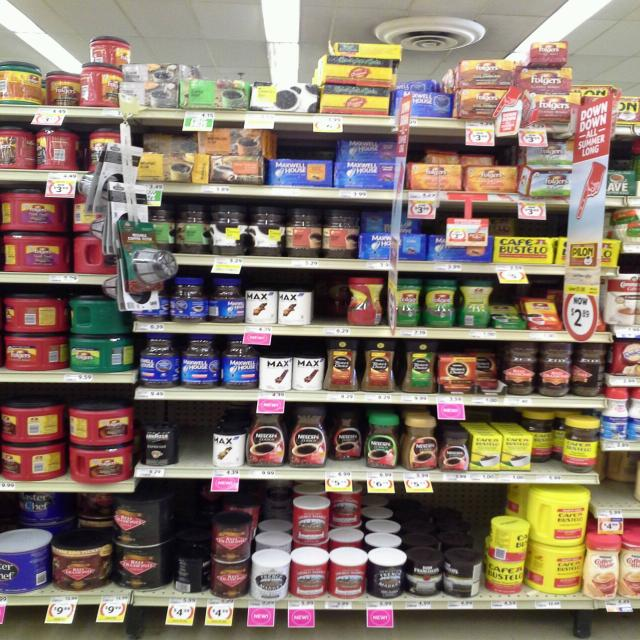empty: (166, 405, 212, 473), (304, 273, 353, 332)
